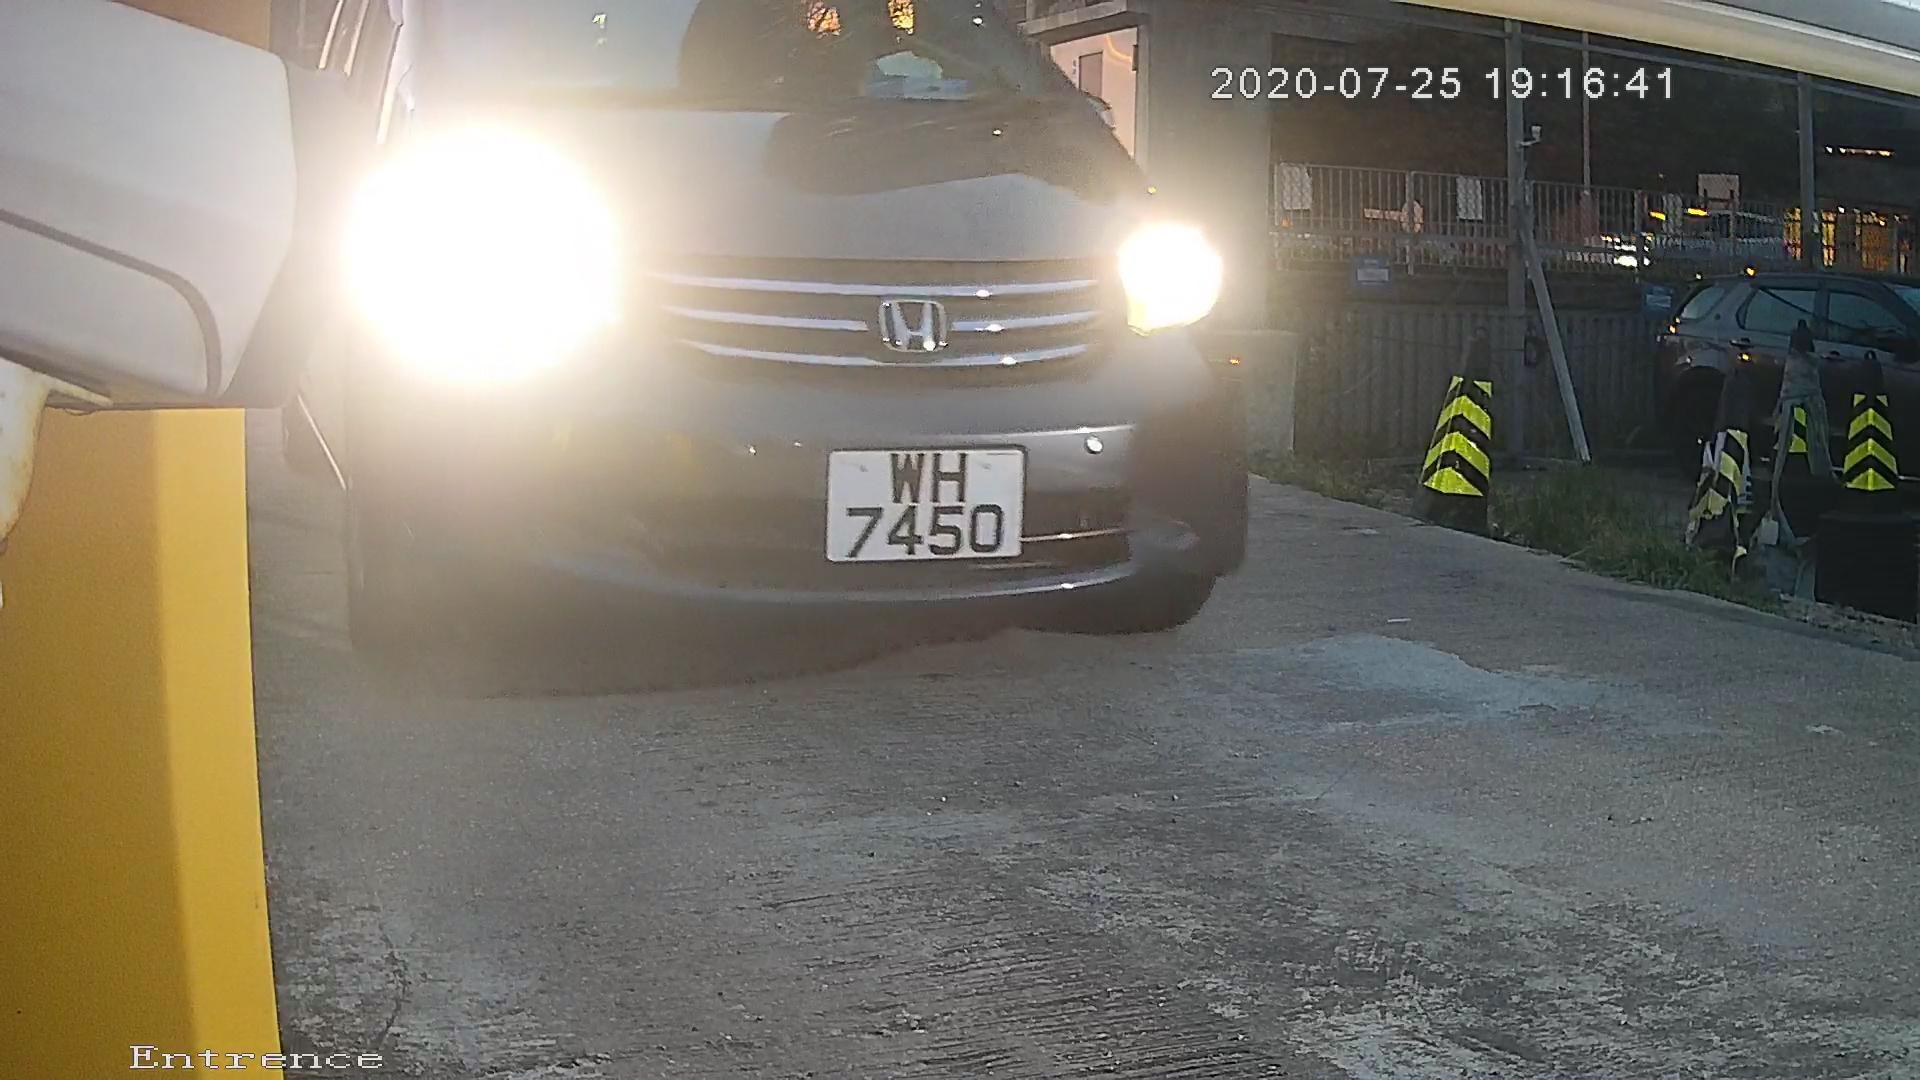privatecar: (301, 1, 1381, 690)
